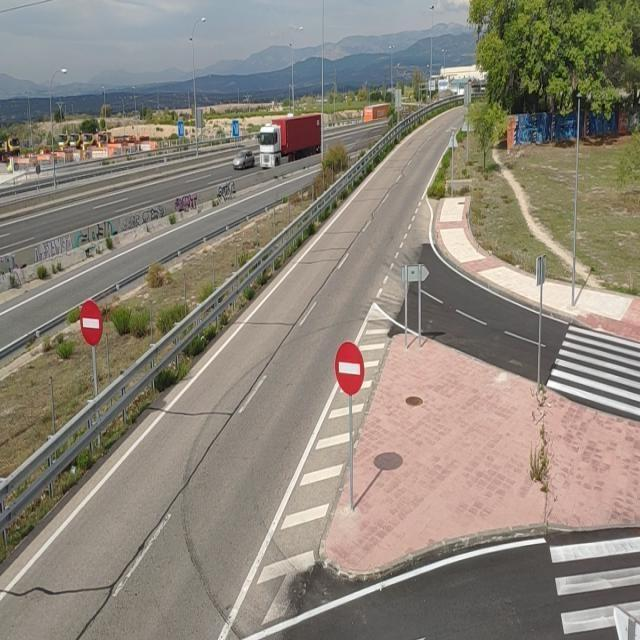Car: (232, 149, 255, 171)
Truck: (255, 112, 322, 169), (362, 102, 392, 123)
